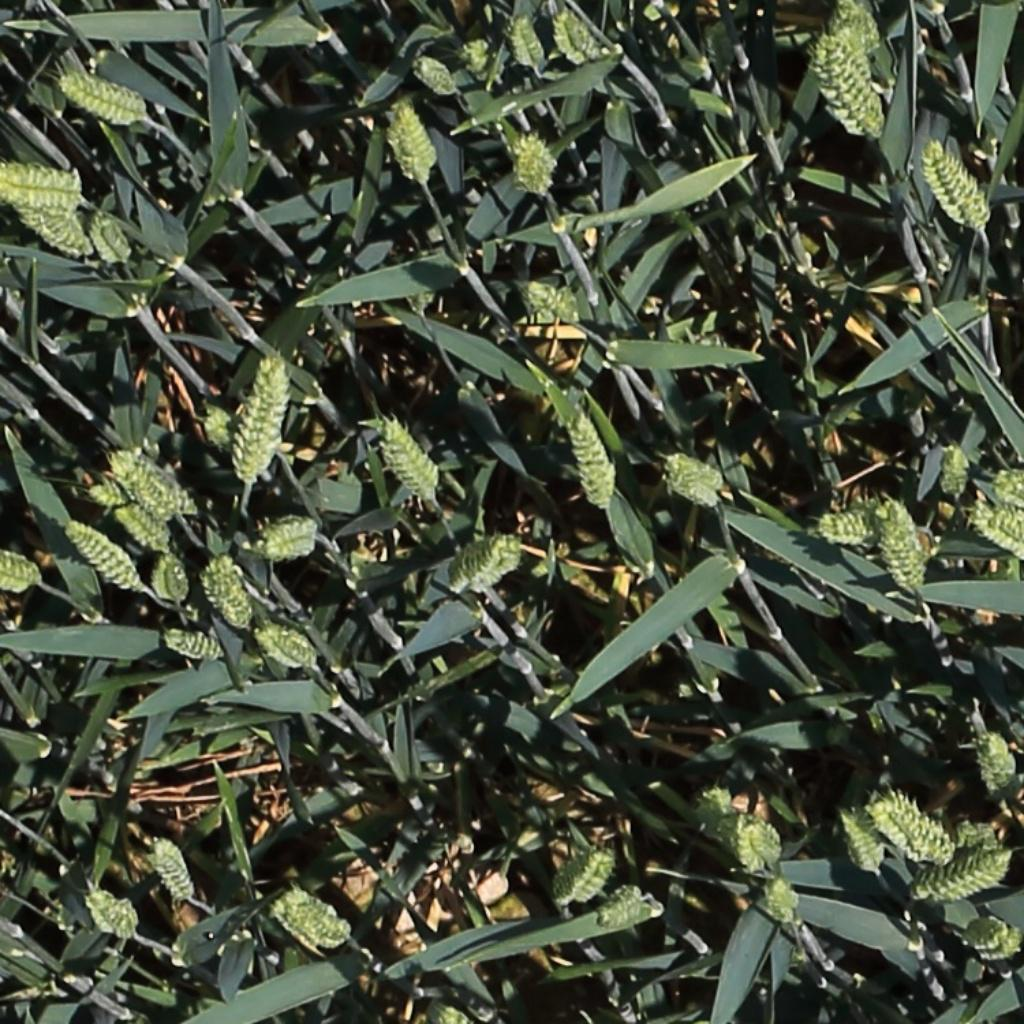0-0: (236, 351, 294, 484), (816, 42, 878, 152), (64, 518, 143, 593), (916, 846, 1014, 903), (378, 416, 443, 501), (925, 137, 983, 232), (110, 450, 184, 520), (572, 408, 617, 512), (12, 195, 89, 253), (883, 797, 951, 862), (203, 552, 255, 636), (880, 509, 928, 599), (0, 165, 85, 214), (58, 75, 146, 120), (451, 533, 518, 591), (563, 847, 618, 913), (839, 808, 888, 882), (394, 98, 439, 178), (150, 835, 197, 909), (114, 499, 173, 555), (274, 897, 341, 944), (554, 5, 603, 69), (832, 0, 884, 58), (956, 809, 1006, 868), (978, 727, 1017, 802), (87, 204, 132, 267), (604, 888, 660, 938), (256, 625, 319, 669), (87, 887, 137, 942), (972, 502, 1024, 552), (664, 466, 724, 509), (820, 504, 884, 544), (518, 125, 552, 200), (510, 9, 548, 76), (525, 278, 582, 322), (741, 809, 779, 874), (459, 38, 512, 84), (155, 544, 189, 610), (731, 816, 763, 882), (258, 522, 318, 557), (672, 448, 728, 484), (202, 402, 238, 458), (415, 55, 461, 96), (162, 630, 226, 659), (768, 871, 800, 929), (942, 438, 969, 503), (0, 548, 39, 587), (422, 998, 478, 1024), (977, 931, 1021, 959), (992, 471, 1024, 509)
